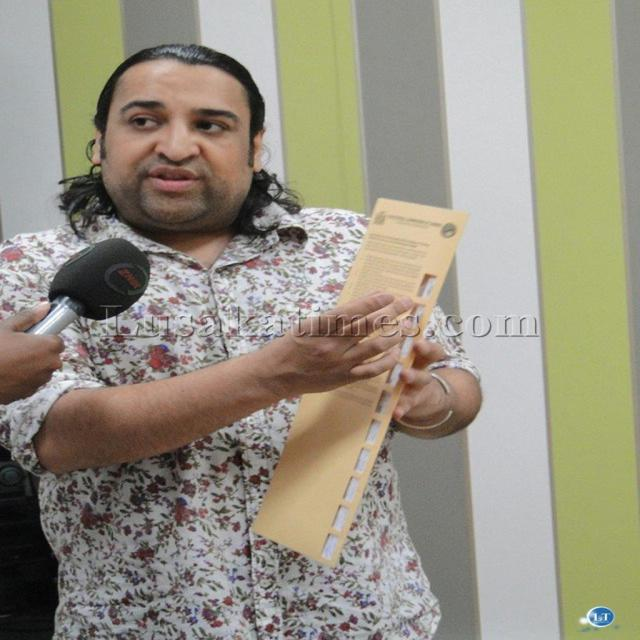Face: (97, 51, 284, 241)
